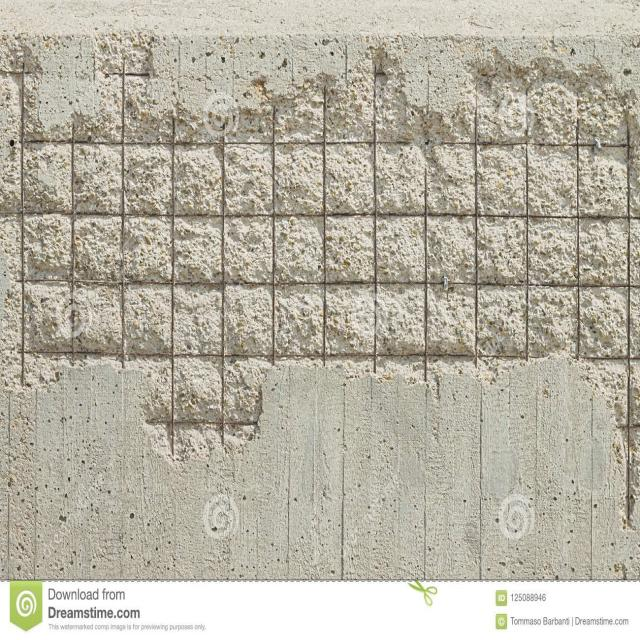Spalling: (2, 32, 640, 532)
